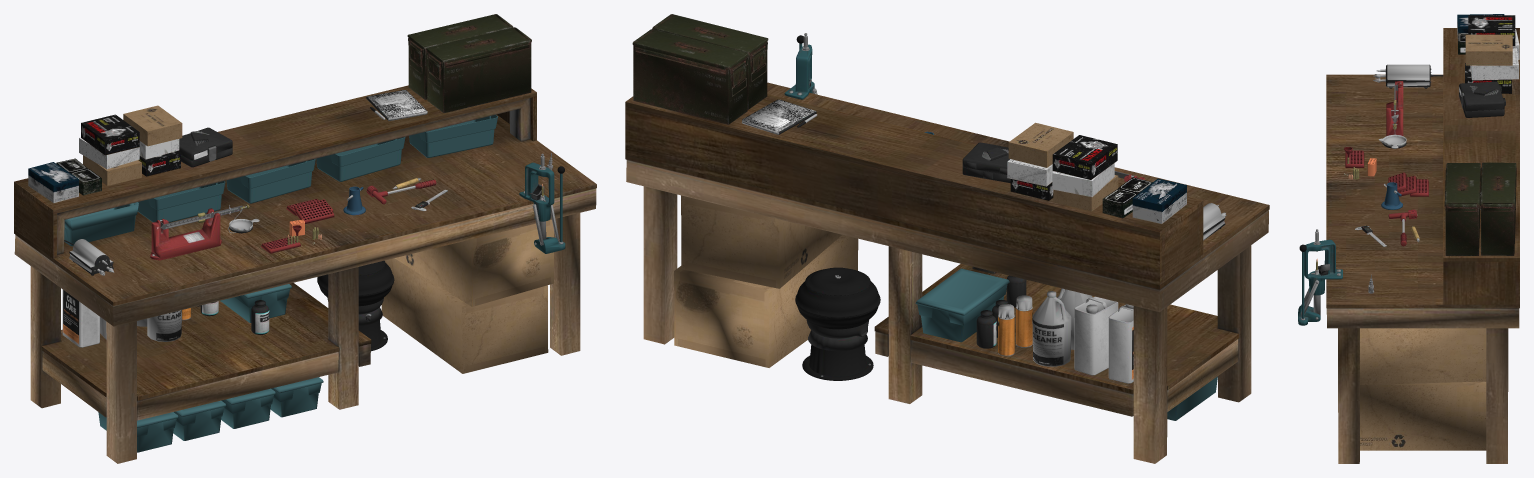
File: Reloading_Bench.fbx
The picture shows the model from 3 angles, left to right: view 1: azimuth 30°, elevation 25°; view 2: azimuth 150°, elevation 25°; view 3: azimuth 270°, elevation 25°; orthographic projection. The views are drawn at different scales.
Visible parts, largest first — view 1: ammo_box_large.001; view 2: ammo_box_large.001; view 3: ammo_box_large.001.
Part boxes in pixels (x1,y1,x2,y2): ammo_box_large.001: (14,14,596,463); ammo_box_large.001: (625,14,1269,463); ammo_box_large.001: (1298,14,1519,463).
Size of the model in its own units: 244 by 131 by 99.4.
